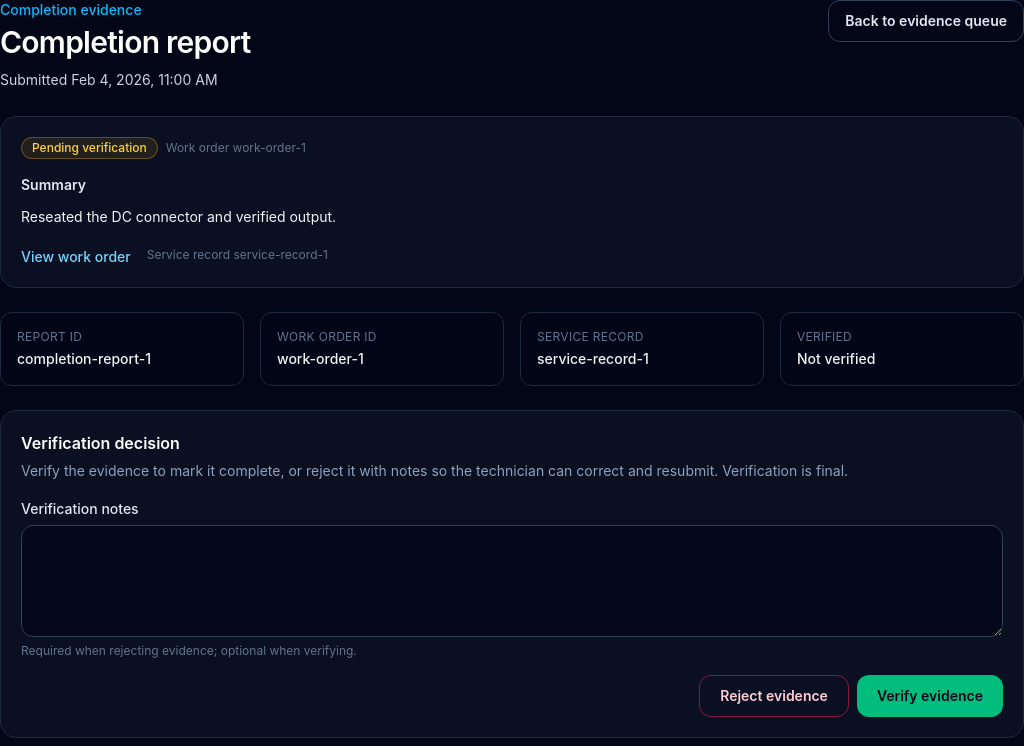
Test: administrator verifies submitted completion evidence
This screenshot has width=1024, height=746.
Check: the heading "Verification decision" is shown, box 21,433 -> 180,453
Click the button "Verify evidence" at (930, 696), box 857,675 -> 1003,717
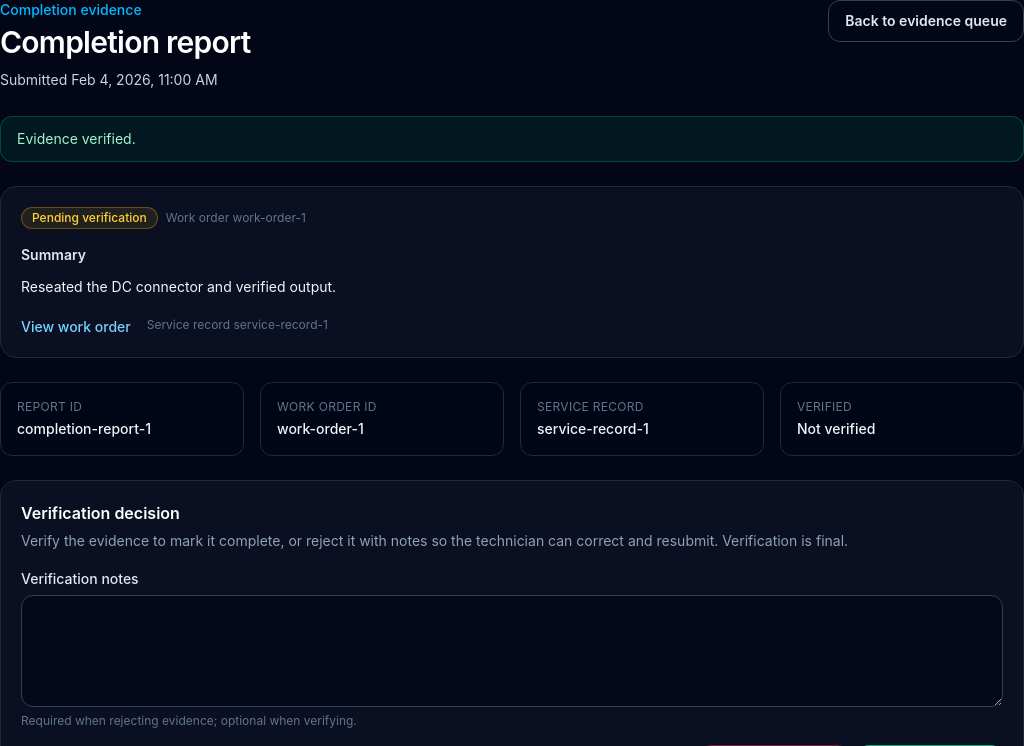
Check: the text "Evidence verified." is shown, box 0,116 -> 1023,162
